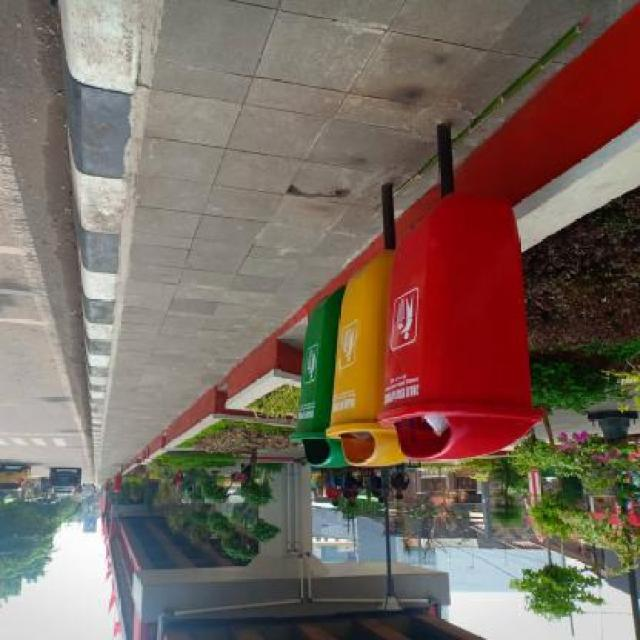garbage container: (373, 184, 558, 464), (329, 255, 391, 474), (290, 285, 347, 476)
